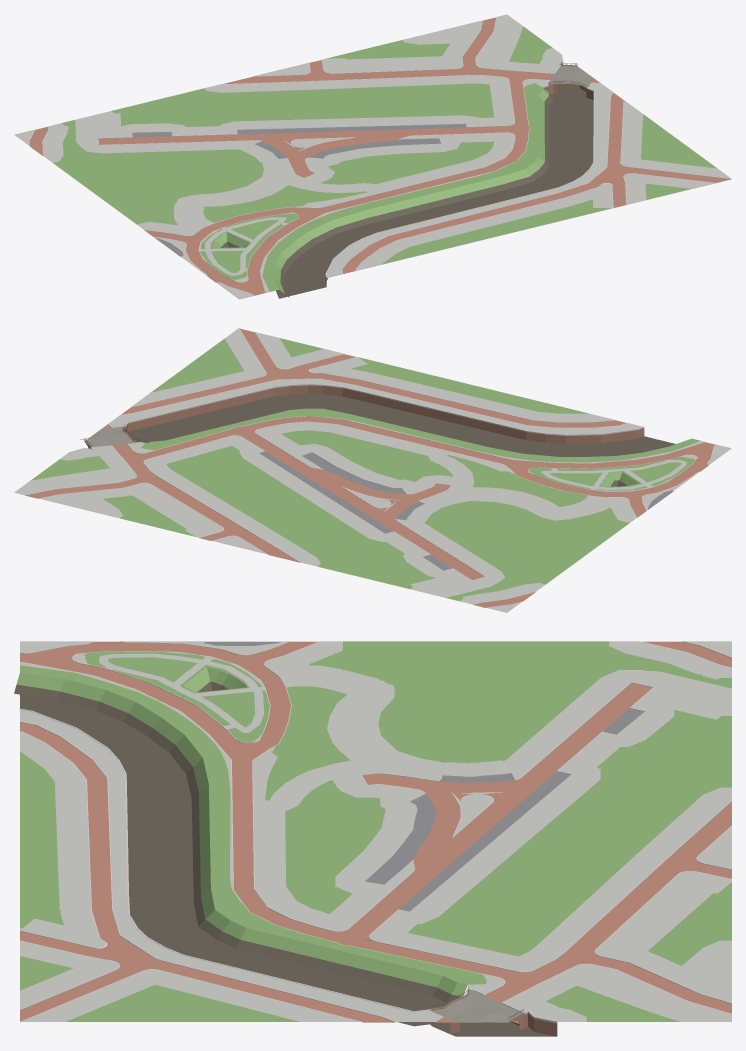
File: ground_7_13.glb
The picture shows the model from 3 angles, top to bottom: view 1: azimuth 30°, elevation 25°; view 2: azimuth 150°, elevation 25°; view 3: azimuth 270°, elevation 25°; orthographic projection. The views are drawn at different scales.
Parts seen in each view (by area): view 1: ground_7_13; view 2: ground_7_13; view 3: ground_7_13.
Boxes of the visible parts, x1=… form: ground_7_13: x1=14, y1=14, x2=731, y2=299; ground_7_13: x1=14, y1=328, x2=731, y2=612; ground_7_13: x1=14, y1=641, x2=731, y2=1036.
Size of the model in its own units: 203 by 4.88 by 159.
